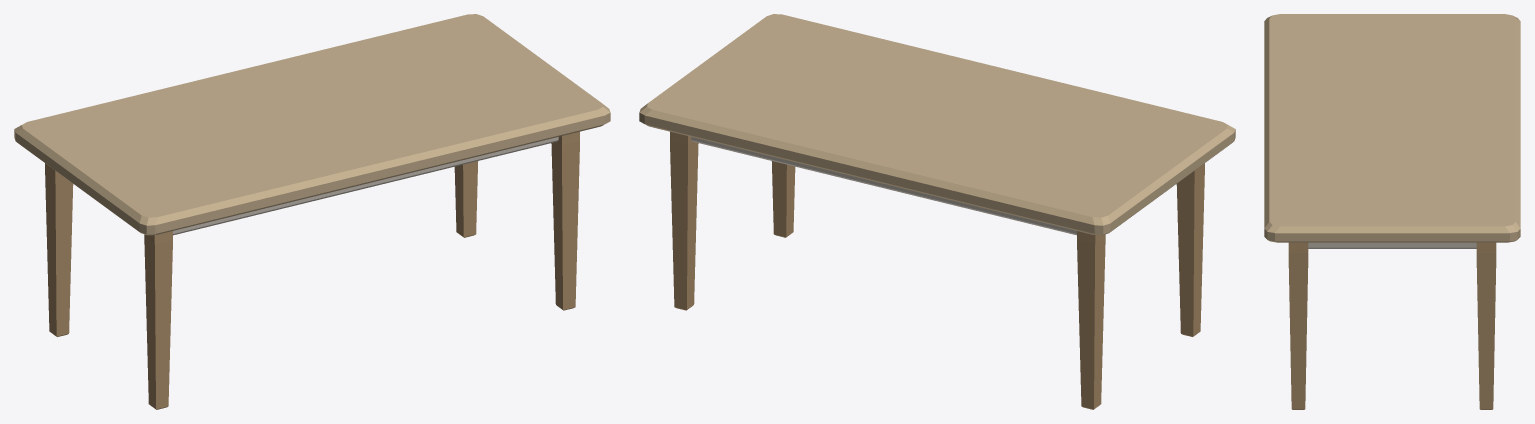
File: dining-table-7af83a.glb
3 renders of one model, left to right at view 1: azimuth 30°, elevation 25°; view 2: azimuth 150°, elevation 25°; view 3: azimuth 270°, elevation 25°, orthographic. The views are drawn at different scales.
Parts seen in each view (by area): view 1: dining-table; view 2: dining-table; view 3: dining-table.
Part boxes in pixels (x1=…): dining-table: x1=14, y1=14, x2=610, y2=409; dining-table: x1=639, y1=14, x2=1235, y2=409; dining-table: x1=1264, y1=14, x2=1520, y2=409.
Bounding box in the file's own units: 1.8 × 0.75 × 0.9.
